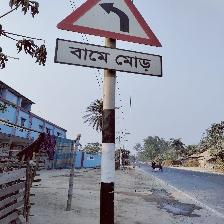Left-Turn: (55, 0, 164, 78)
